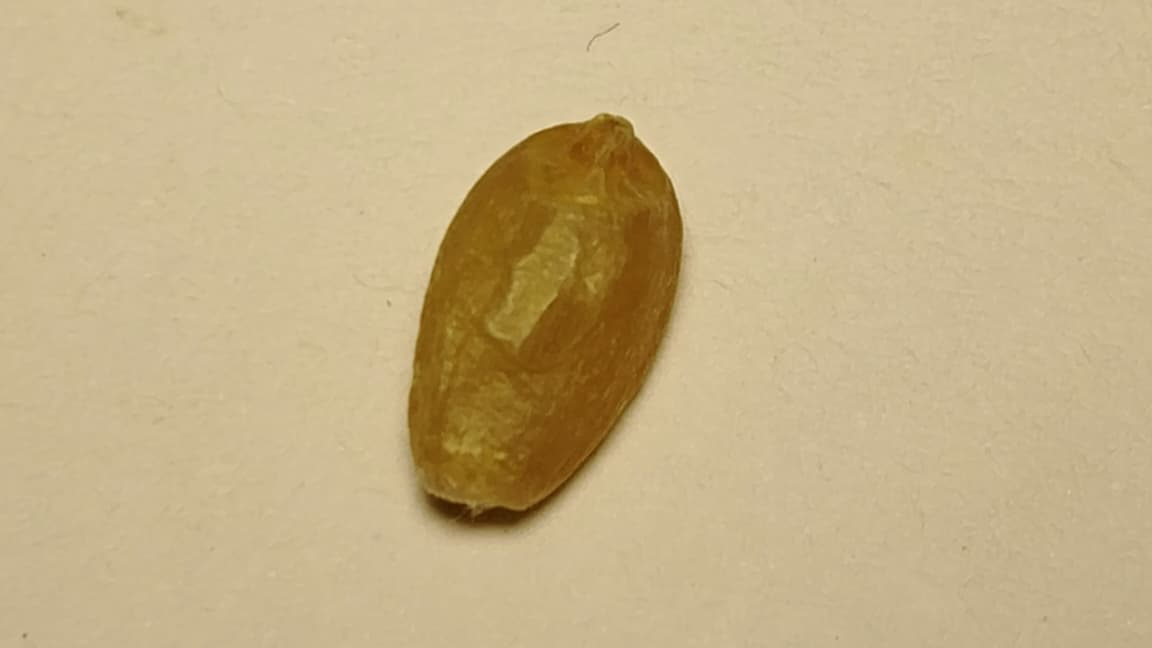healthy: (409, 114, 682, 510)
